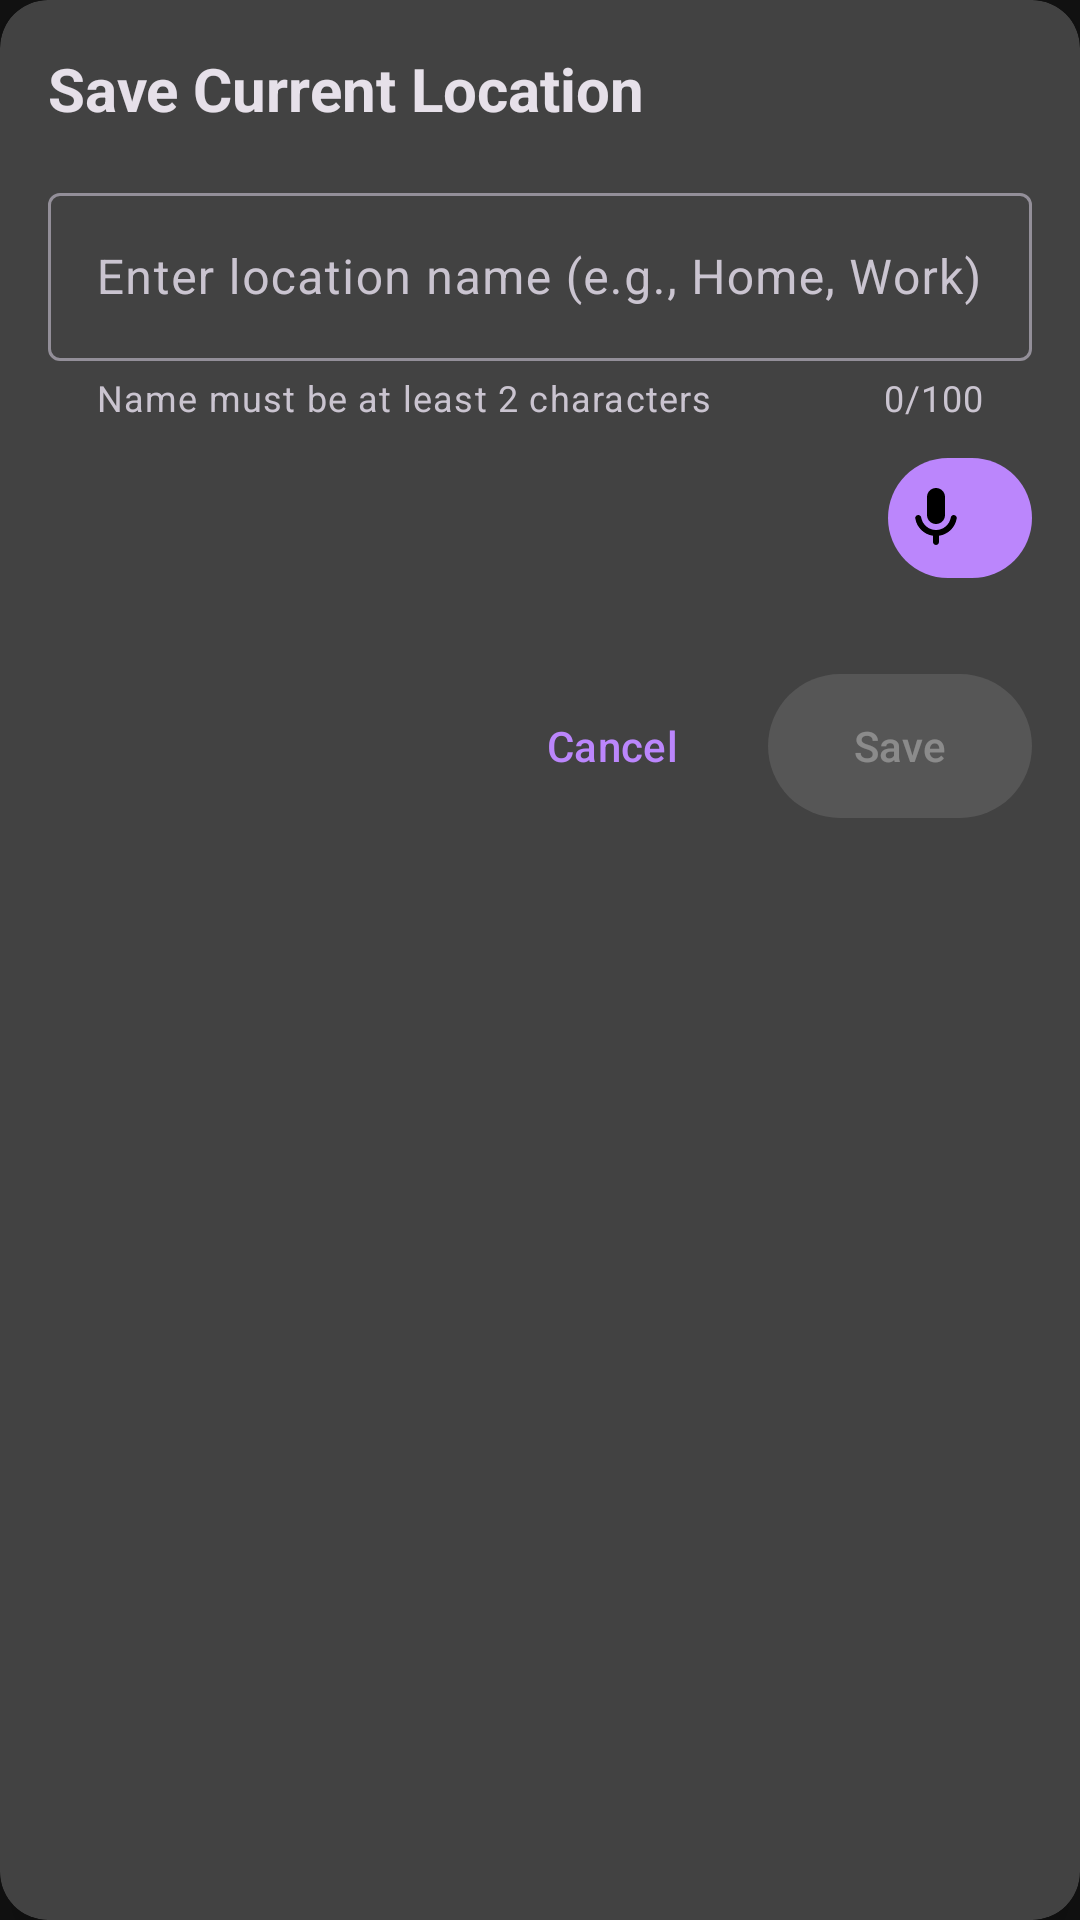

Where icons sit on this 1080x1920 app screen, as (left=x1, top=y1, right=x2, bottom=y2):
Use voice to enter name: (left=888, top=458, right=1032, bottom=578)
